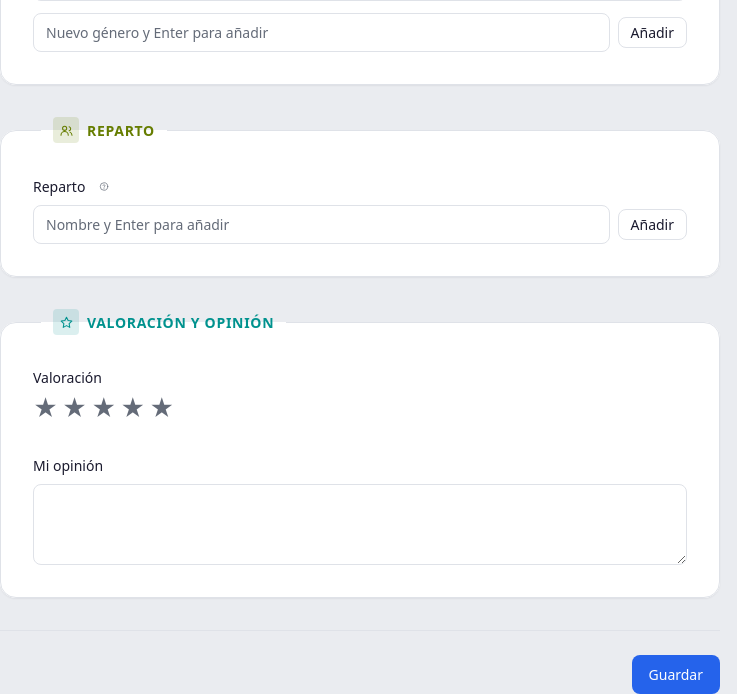
Test case: SeriesForm › muestra errores de validación al enviar vacío
This screenshot has width=737, height=694.
(page scrolled)
Click the button "Guardar".
click(676, 674)  # box [632,655,720,693]
(page scrolled)
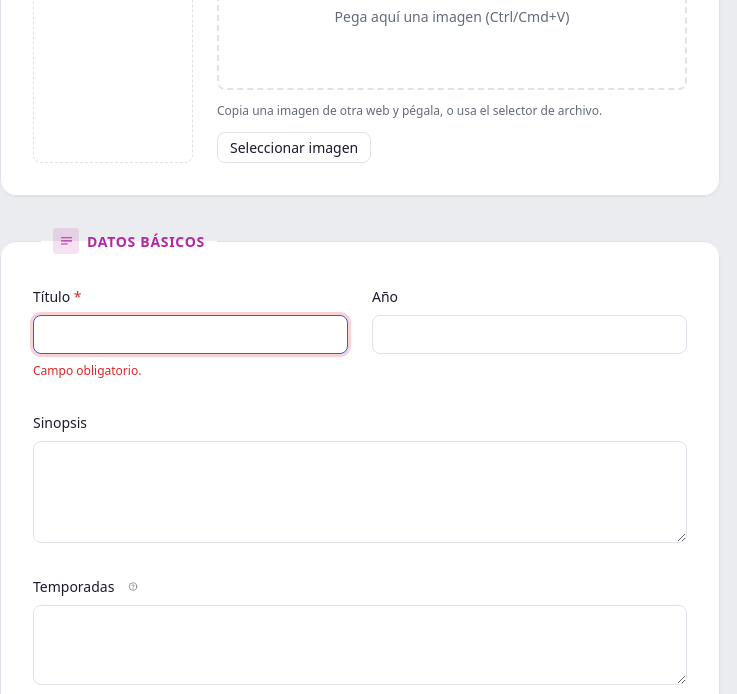
Result: the message "Campo obligatorio." is shown at [33,362,141,379]
